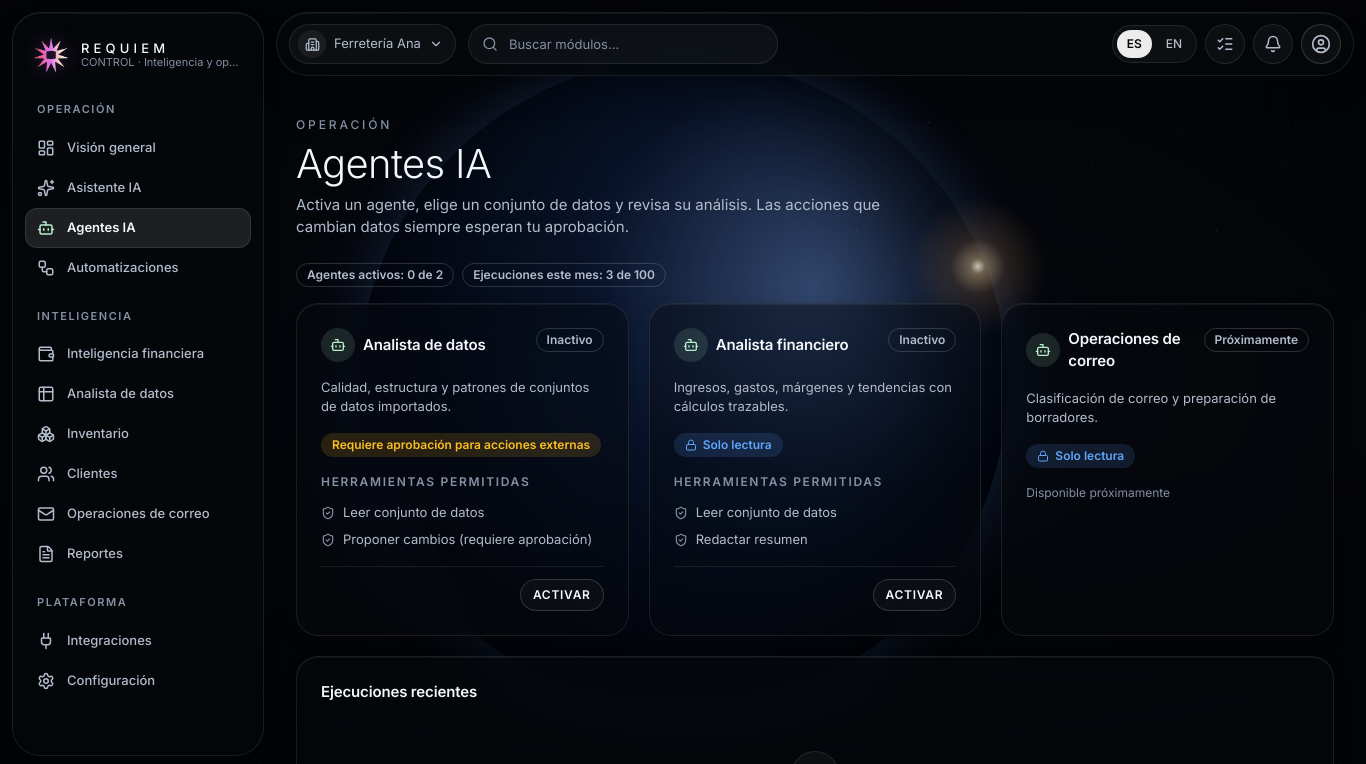
Test: AI agents › activates an agent and runs it with an idempotency key
Click the button "Activar" below "Proponer cambios (requiere aprobación)".
click(562, 595)  # box 520,579 -> 604,611
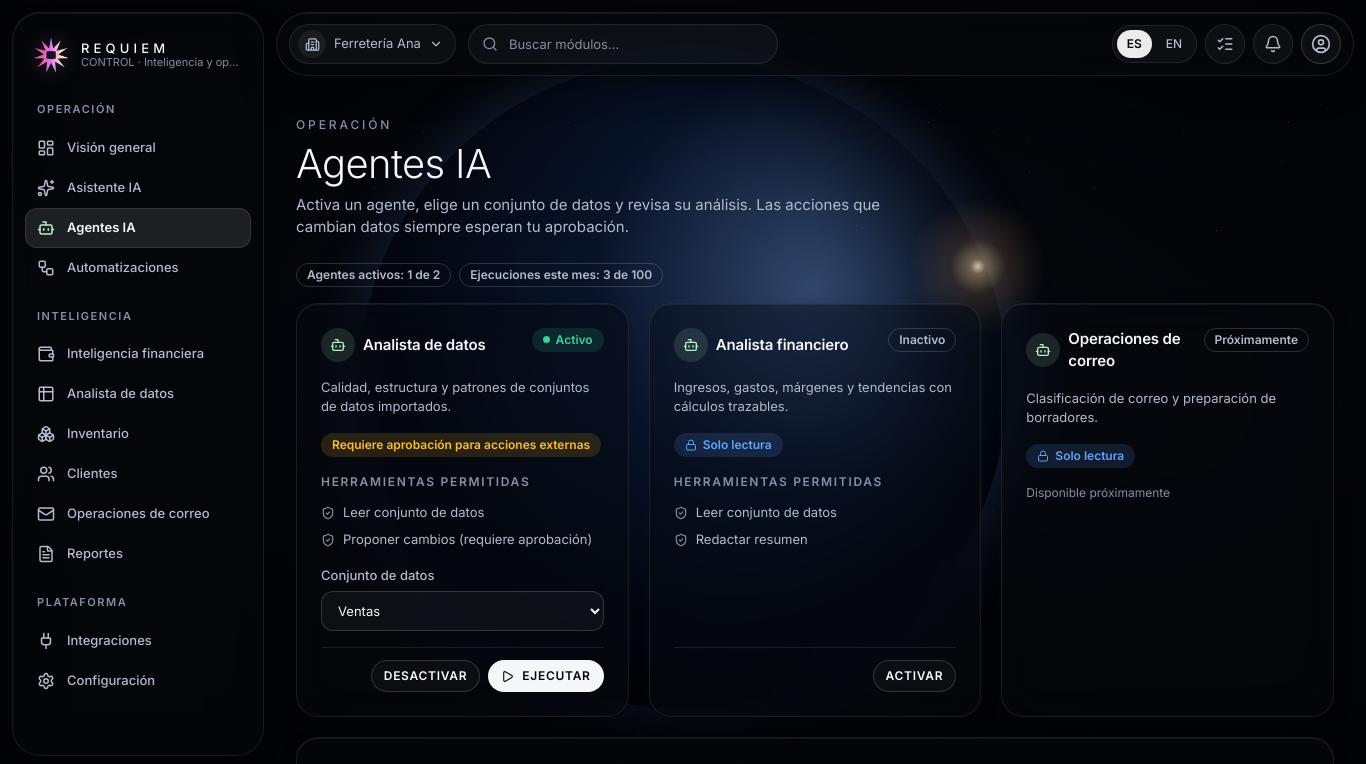
Check: the button "Ejecutar" is shown
Click the button "Ejecutar".
click(546, 676)  # box 488,660 -> 604,692
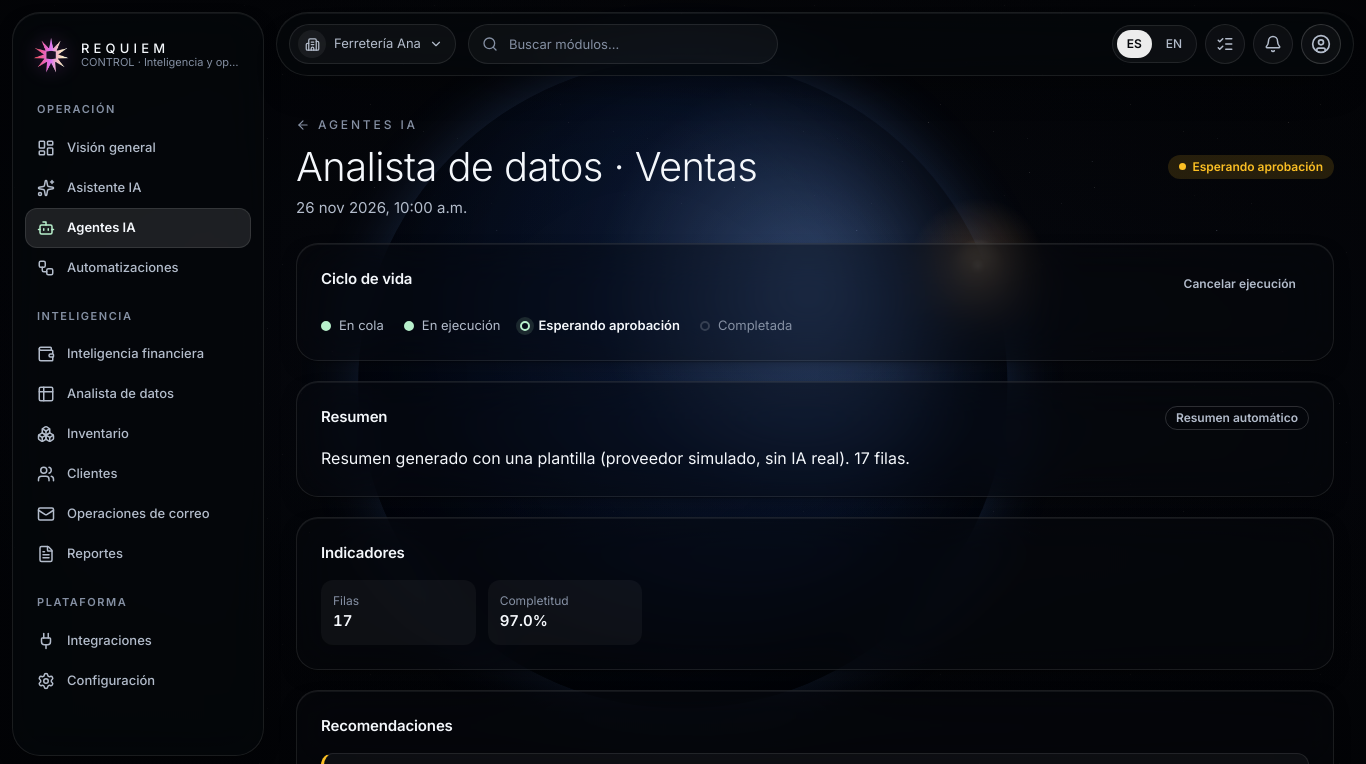
Check: the heading "Analista de datos · Ventas" is shown, box 296,145 -> 757,189
